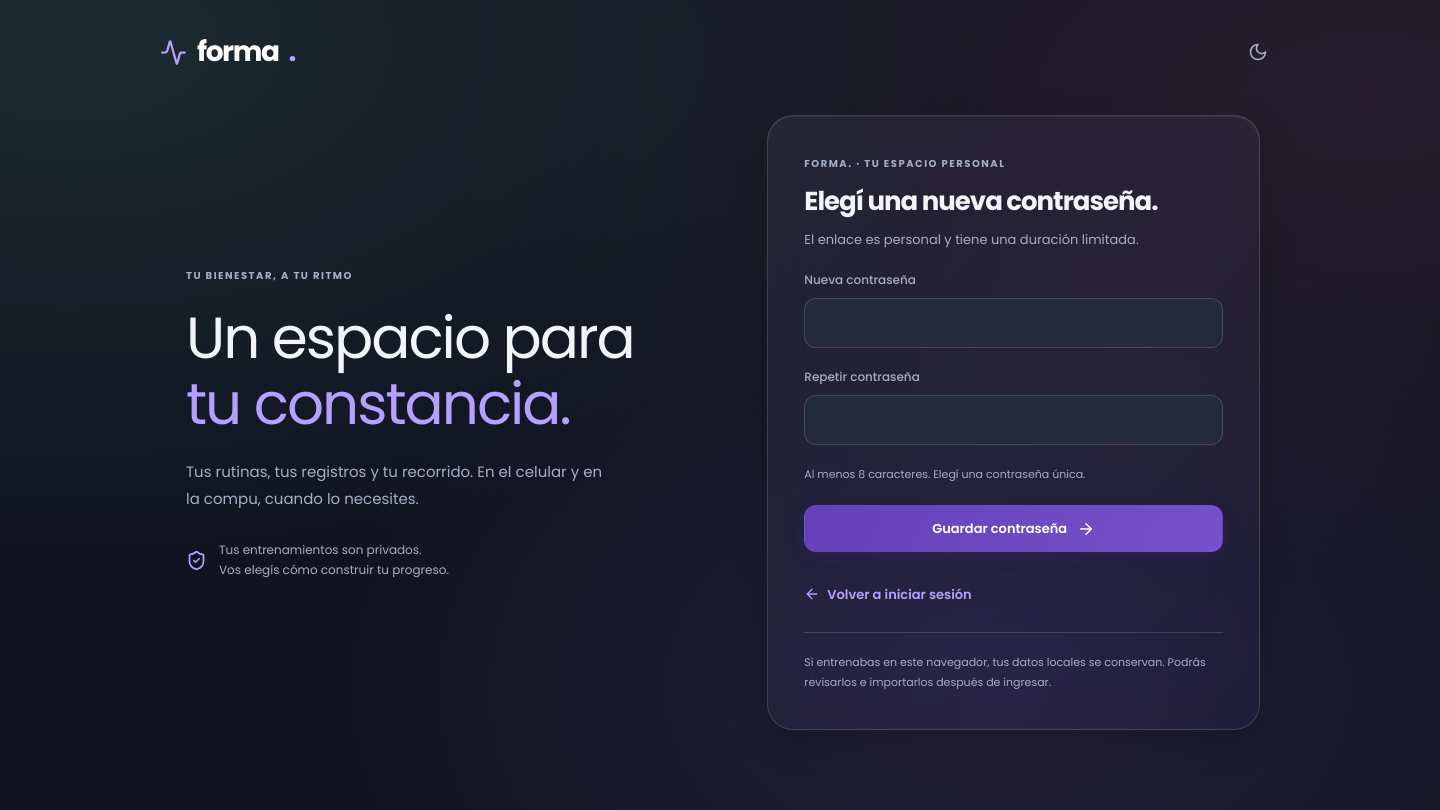
restablecimiento válido actualiza contraseña mediante Auth y cierra sesiones
In the password field labelled "Nueva contraseña": (1014, 323) [804,298,1223,348], type "clave-de-prueba-123"
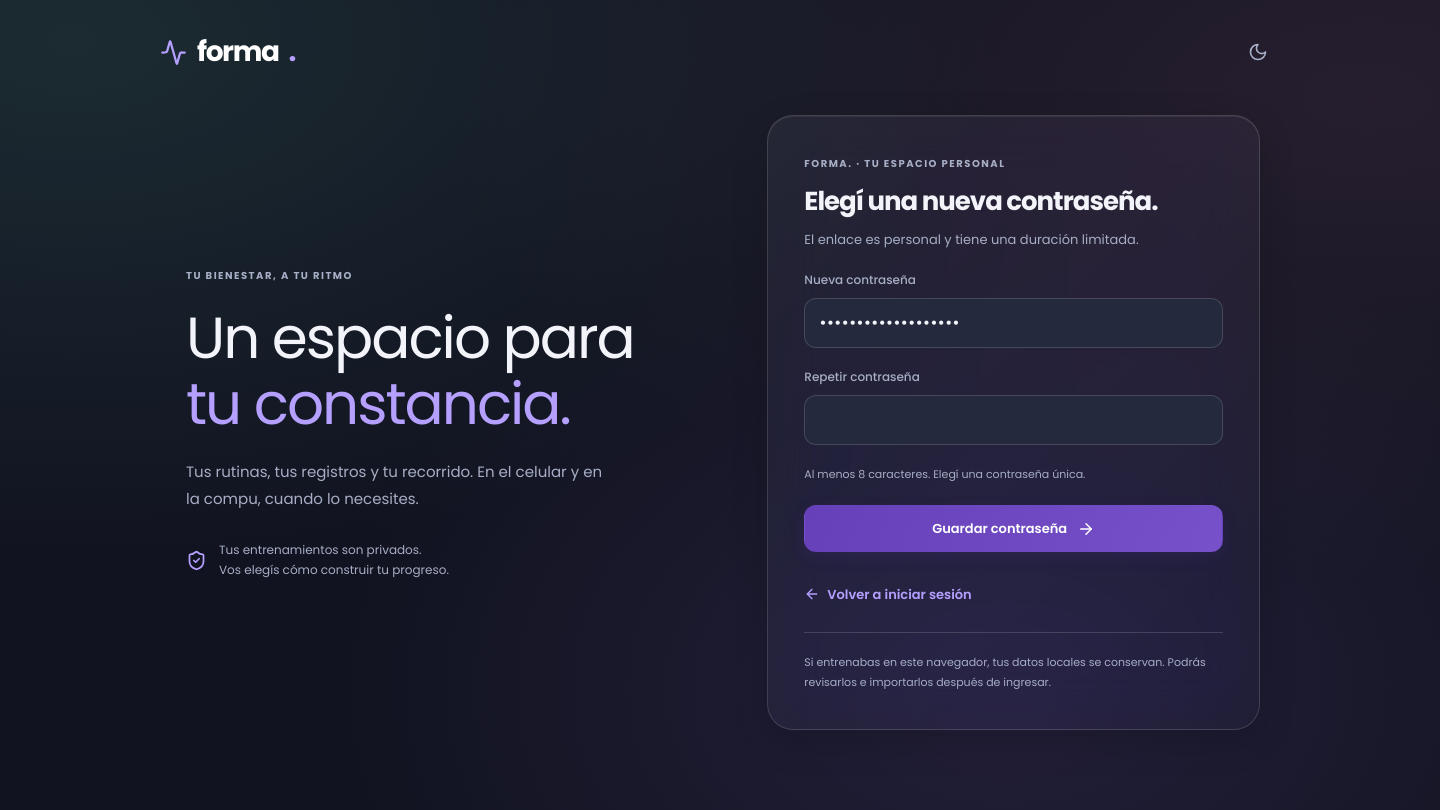
In the password field labelled "Repetir contraseña": (1014, 420) [804,395,1223,445], type "clave-de-prueba-123"
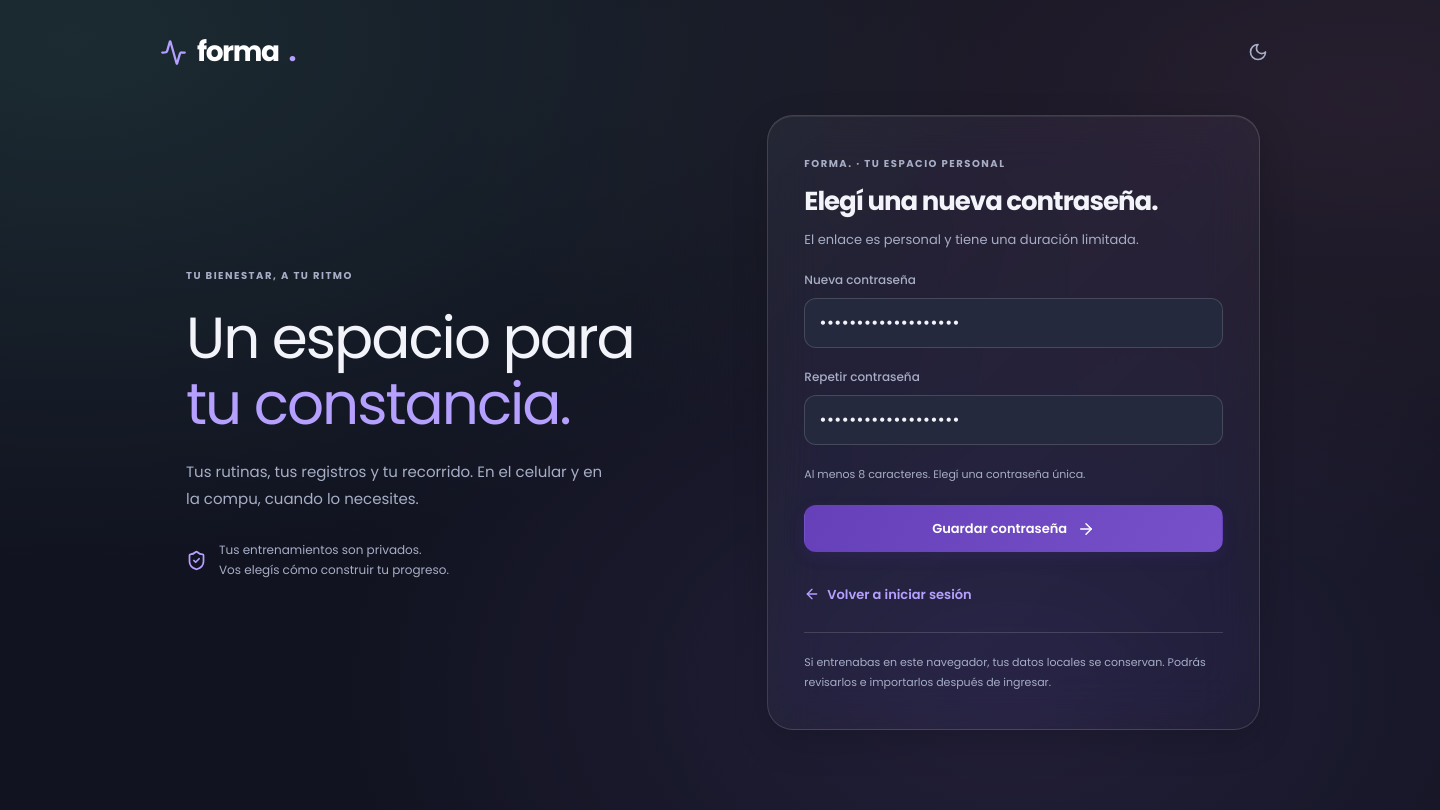
Click the button "Guardar contraseña": (1014, 529) [804,505,1223,552]
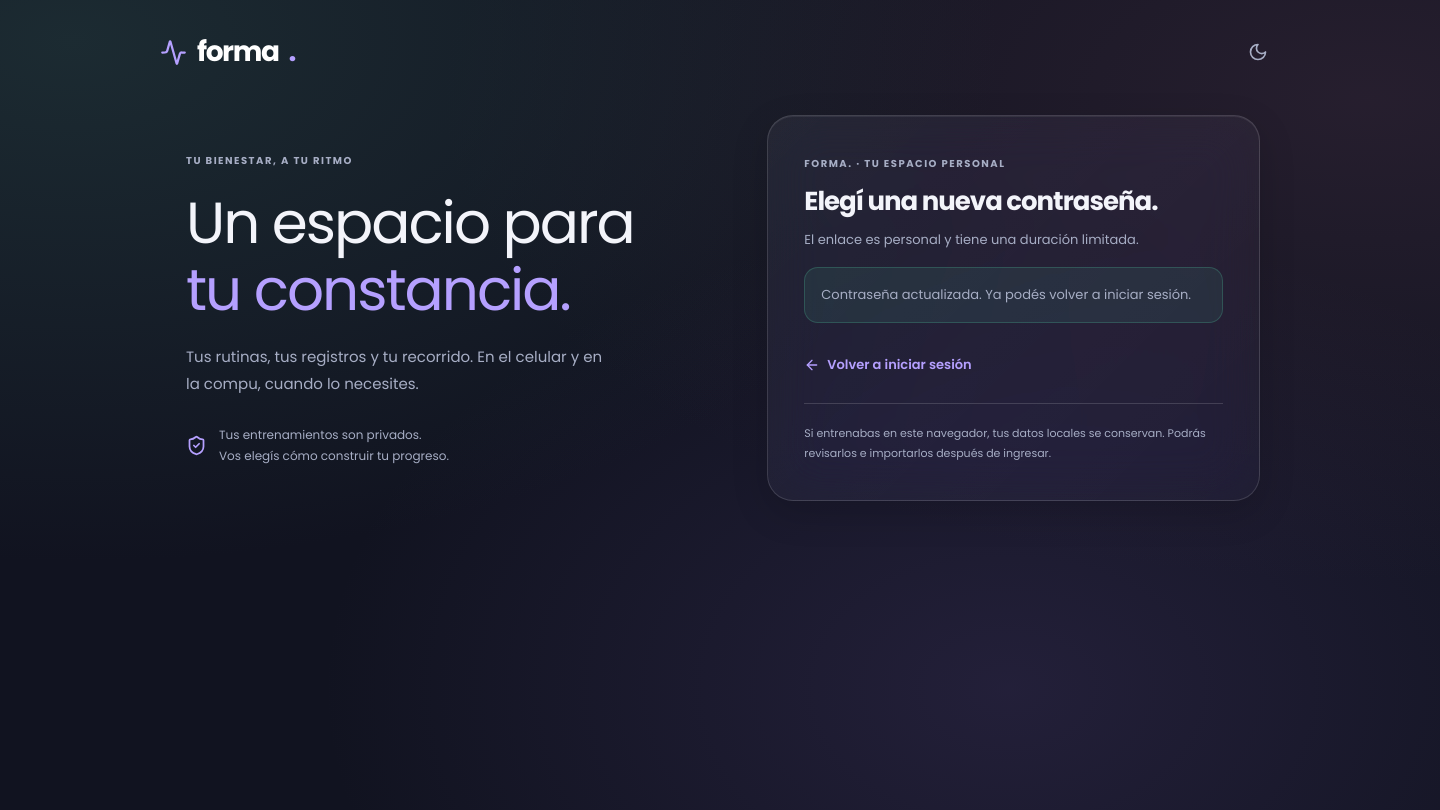
Now the text "Contraseña actualizada. Ya podés volver a iniciar sesión." is shown, box [804,267,1223,323]
